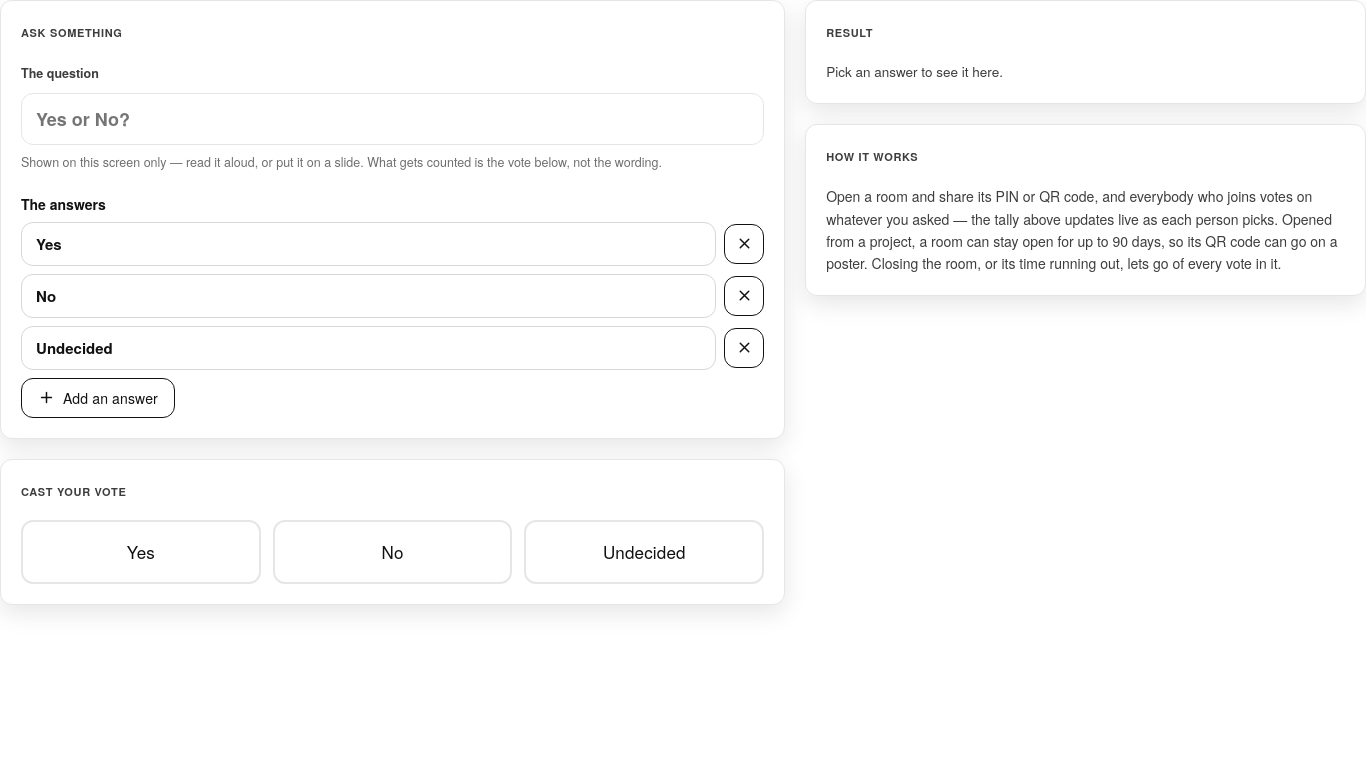
Poll › picks a vote and shows it in the solo result
The image size is (1366, 768).
Click the button "Undecided" at [644, 552], box [524,520,764,584]
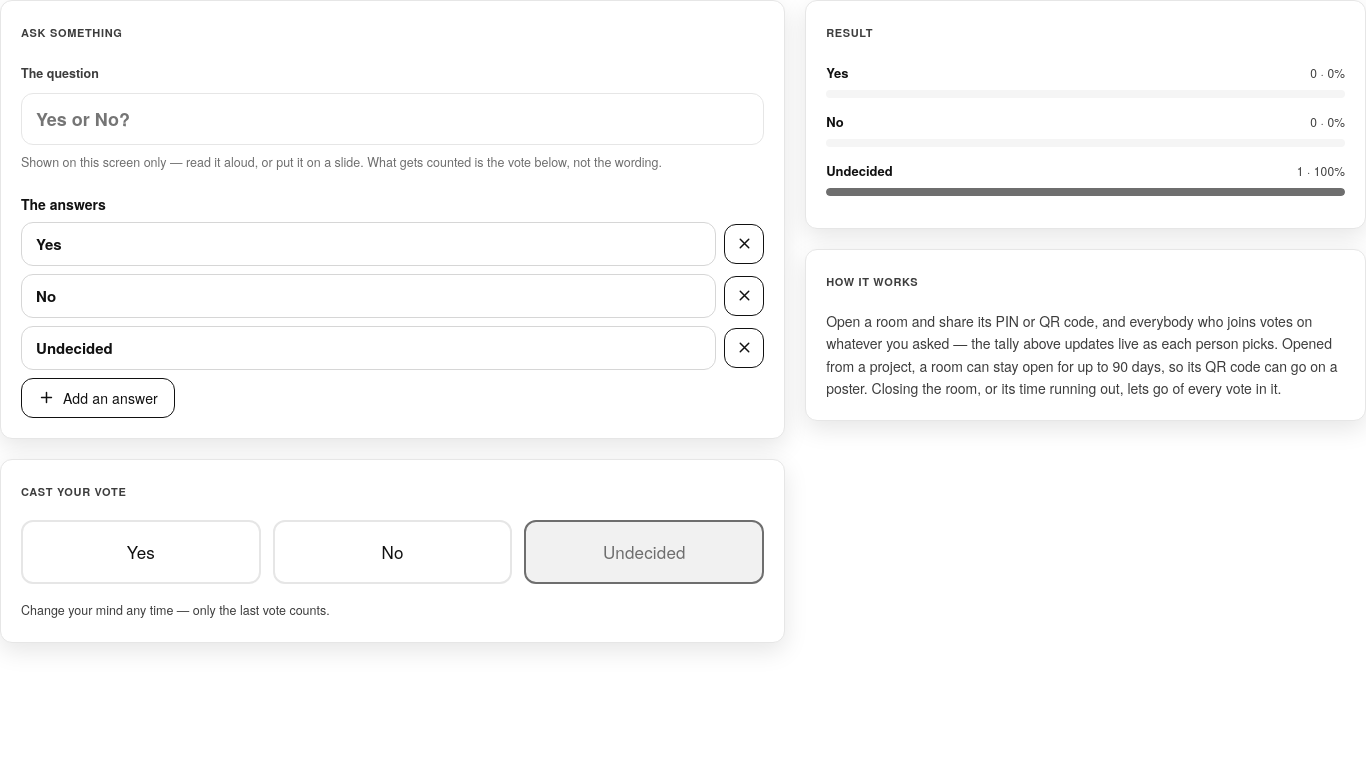
Now the text "1 · 100%" is shown, box [1297,159,1345,183]
